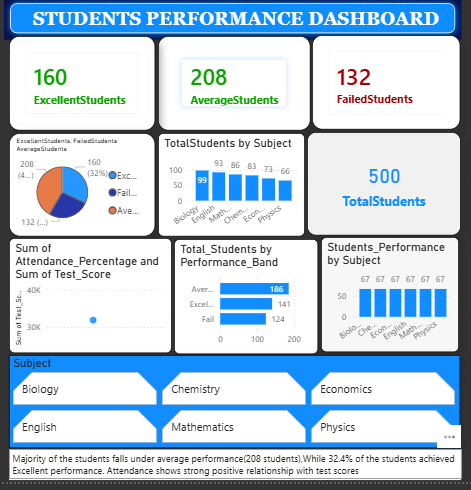

This screenshot's page, from the dashboard's own definition file:
{"tool":"powerbi","page":{"name":"Page 2","canvas":[1280,720],"ordinal":1},"visuals":[{"type":"shape","box":[10.3,16.7,662.8,61.5],"z":0},{"type":"cardVisual","fields":{"Data":["Table1.AverageStudents"]},"box":[233.7,73.3,220.8,136.6],"z":1000},{"type":"cardVisual","fields":{"Data":["Table1.ExcellentStudents"]},"box":[17.8,73.3,211.9,136.6],"z":2000},{"type":"cardVisual","fields":{"Data":["Table1.FailedStudents"]},"box":[456.4,73.1,215.4,137.2],"z":3000},{"type":"pieChart","title":"ExcellentStudents, FailedStudents  AverageStudents","fields":{"Y":["Table1.ExcellentStudents","Table1.FailedStudents","Table1.AverageStudents"]},"box":[17.9,214.1,211.5,150],"z":4000},{"type":"columnChart","fields":{"Category":["Table1.Subject"],"Y":["Table1.TotalStudents"]},"box":[233.3,214.1,212.8,150],"z":5000},{"type":"card","fields":{"Values":["Table1.TotalStudents"]},"box":[448.7,212.8,223.1,150],"z":6000},{"type":"scatterChart","fields":{"X":["Sum(Table1.Attendance_Percentage)"],"Y":["Sum(Table1.Test_Score)"]},"box":[17.9,366.7,235.9,166.7],"z":7000},{"type":"clusteredBarChart","fields":{"Category":["Table1.Performance_Band"],"Y":["Table1.Total_Students"]},"box":[256.4,367.9,209,166.7],"z":8000},{"type":"clusteredColumnChart","title":"Students_Performance by Subject","fields":{"Category":["Table1.Subject"],"Y":["Table1.Subject_Performance"]},"box":[469.2,365.4,200,166.7],"z":9000},{"type":"advancedSlicerVisual","fields":{"Values":["Table1.Subject"]},"box":[17.9,535.9,653.8,134.6],"z":10000},{"type":"textbox","box":[17.9,670.5,655.1,44.9],"z":11000}]}

Visuals, with their boxes on the page's 1280x720 design canvas (x1, y1, x2, y2). These are canvas units, not pixel positions in the 471x490 screenshot, which may show the page scaled, cropped or inside an application window:
shape: box(10, 17, 673, 78)
cardVisual - Table1.AverageStudents: box(234, 73, 454, 210)
cardVisual - Table1.ExcellentStudents: box(18, 73, 230, 210)
cardVisual - Table1.FailedStudents: box(456, 73, 672, 210)
"ExcellentStudents, FailedStudents  AverageStudents" pieChart: box(18, 214, 229, 364)
columnChart - Table1.Subject x Table1.TotalStudents: box(233, 214, 446, 364)
card - Table1.TotalStudents: box(449, 213, 672, 363)
scatterChart - Sum(Table1.Attendance_Percentage) x Sum(Table1.Test_Score): box(18, 367, 254, 533)
clusteredBarChart - Table1.Performance_Band x Table1.Total_Students: box(256, 368, 465, 535)
"Students_Performance by Subject" clusteredColumnChart: box(469, 365, 669, 532)
advancedSlicerVisual - Table1.Subject: box(18, 536, 672, 670)
textbox: box(18, 670, 673, 715)
